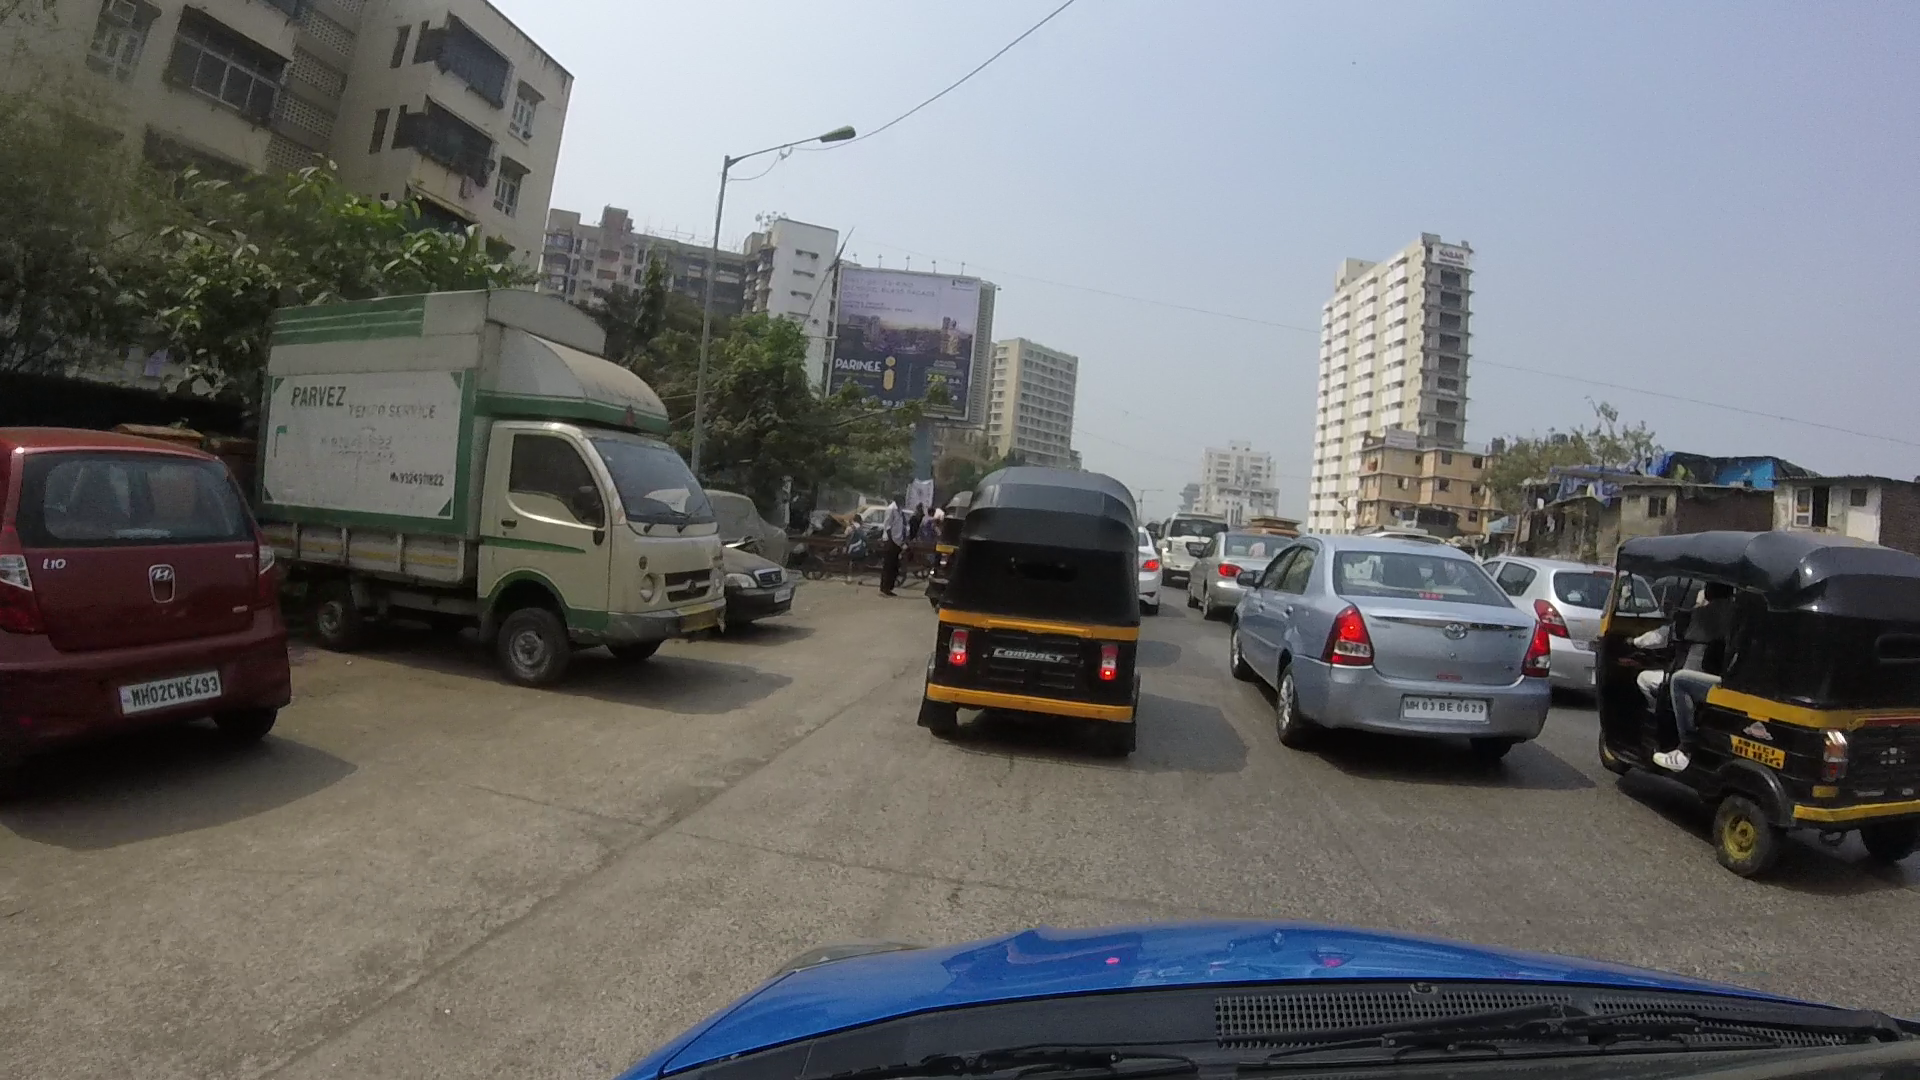car: (11, 419, 320, 775), (1218, 525, 1571, 771), (1489, 534, 1633, 704)
rickshaw: (1596, 525, 1920, 899), (895, 460, 1171, 764)
truck: (243, 276, 742, 702)
